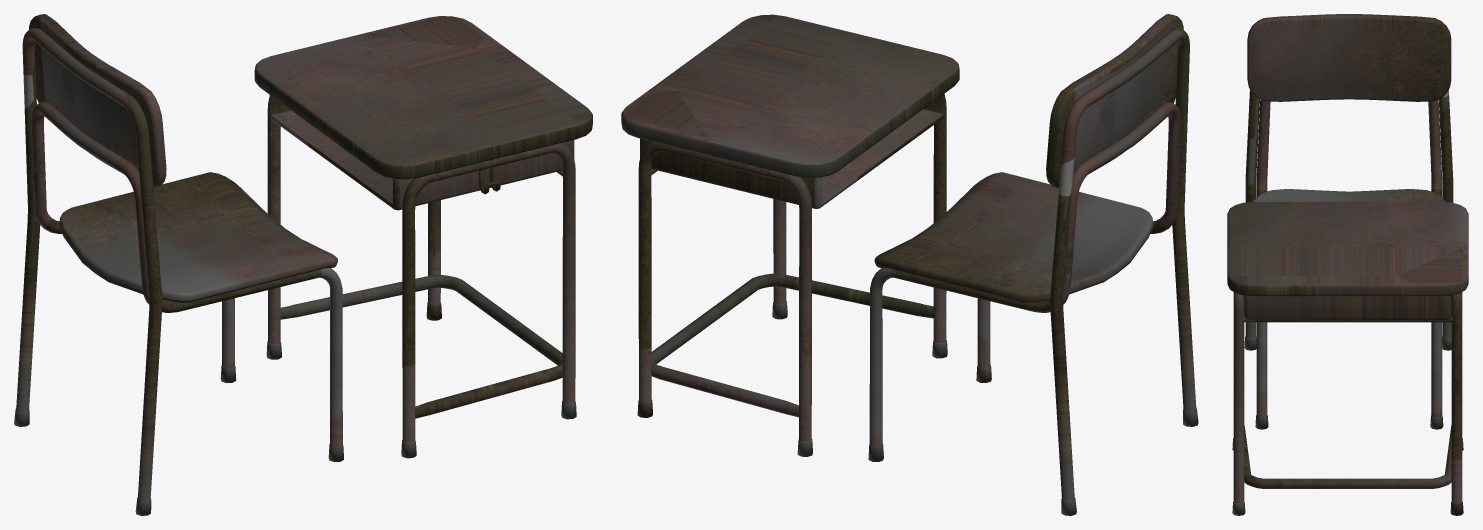
File: Mesa y silla.fbx
The picture shows the model from 3 angles, left to right: view 1: azimuth 30°, elevation 25°; view 2: azimuth 150°, elevation 25°; view 3: azimuth 270°, elevation 25°; orthographic projection. The views are drawn at different scales.
Parts seen in each view (by area): view 1: table low, sit low; view 2: table low, sit low; view 3: table low, sit low.
Part boxes in pixels (x1=…): table low: x1=254, y1=16, x2=592, y2=458; sit low: x1=14, y1=14, x2=343, y2=515; table low: x1=621, y1=14, x2=959, y2=456; sit low: x1=868, y1=14, x2=1198, y2=515; table low: x1=1227, y1=202, x2=1468, y2=515; sit low: x1=1244, y1=14, x2=1453, y2=429.
Size of the model in its own units: 787 by 681 by 445.
